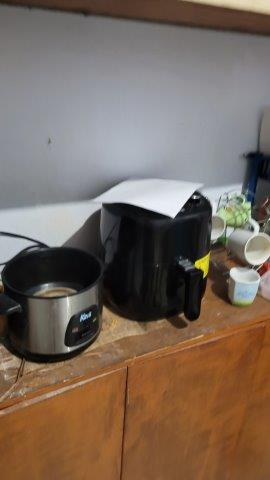kertas: (91, 167, 205, 220)
